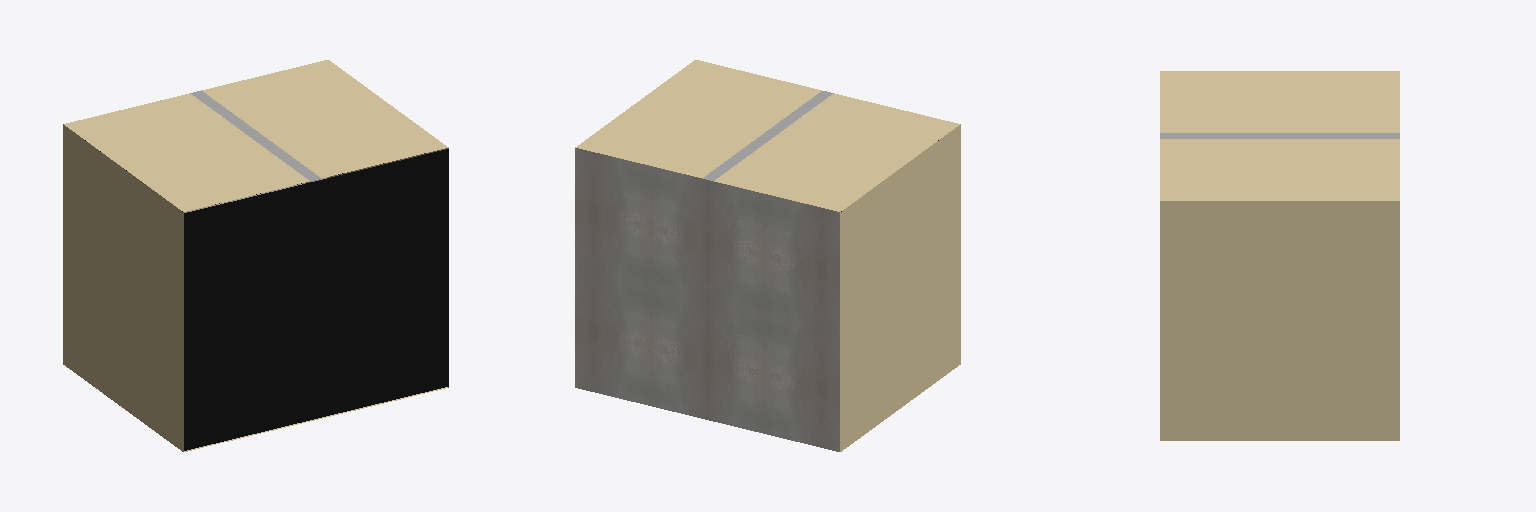
3 renders of one model, left to right at view 1: azimuth 30°, elevation 25°; view 2: azimuth 150°, elevation 25°; view 3: azimuth 270°, elevation 25°, orthographic.
Visible parts, largest first — view 1: Solid1, Solid1:5, Solid3, Solid2, Solid1:1; view 2: Solid1:4, Solid1:5, Solid2, Solid3, Solid1:1; view 3: Solid1:2, Solid2, Solid3, Solid1:1.
Part boxes in pixels (left/top/right/bottom): Solid1: left=184, top=149, right=448, bottom=450; Solid1:5: left=63, top=124, right=183, bottom=451; Solid3: left=64, top=93, right=309, bottom=211; Solid2: left=202, top=60, right=448, bottom=177; Solid1:1: left=190, top=91, right=321, bottom=183; Solid1:4: left=575, top=148, right=839, bottom=451; Solid1:5: left=840, top=124, right=960, bottom=451; Solid2: left=575, top=60, right=821, bottom=177; Solid3: left=714, top=93, right=959, bottom=211; Solid1:1: left=702, top=91, right=833, bottom=180; Solid1:2: left=1160, top=201, right=1399, bottom=440; Solid2: left=1160, top=139, right=1399, bottom=200; Solid3: left=1160, top=71, right=1399, bottom=132; Solid1:1: left=1160, top=133, right=1399, bottom=138.
Bounding box in the file's own units: 7000 × 6060 × 5502.
Materials: 7 (1 with a texture image).